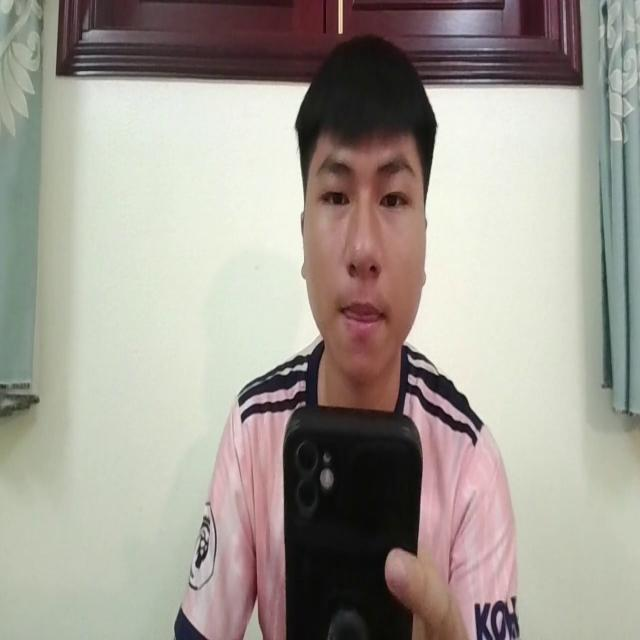phone: (279, 397, 423, 640)
student: (184, 37, 521, 640)
